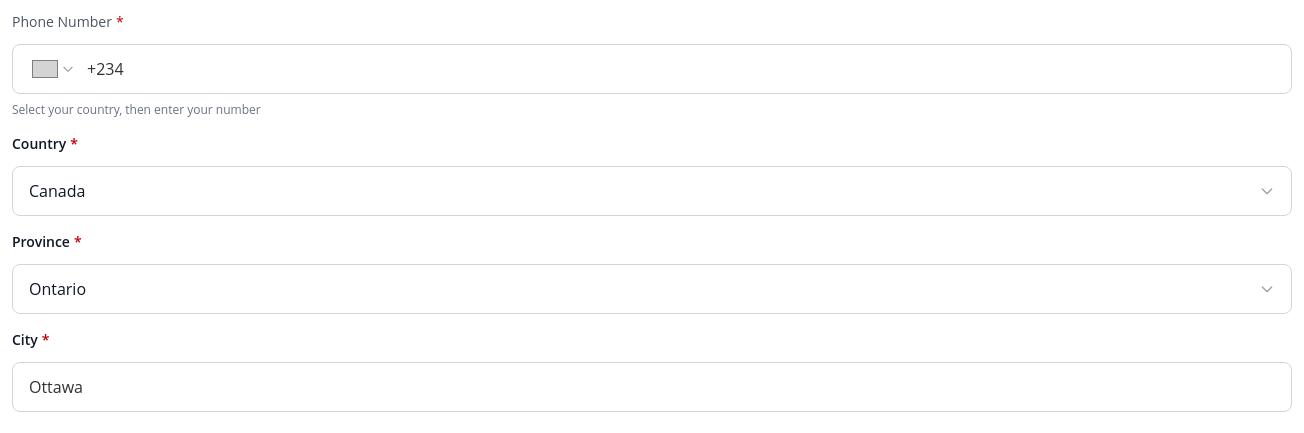
phone errors wait for the reader to finish › speaks up once focus leaves
Click the field labelled "Phone Number*". click: (681,69)
box: [87,57,1275,81]
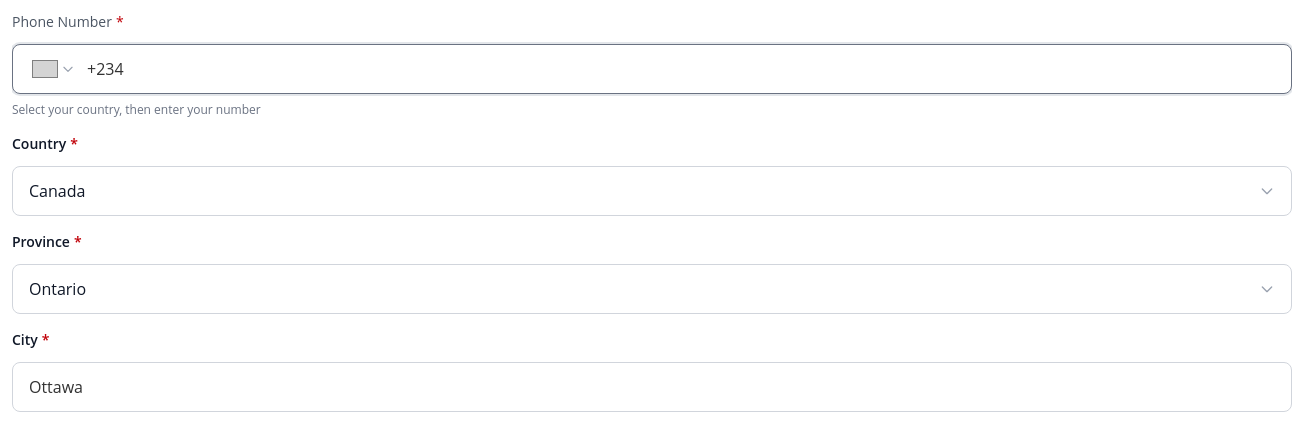
Press Tab
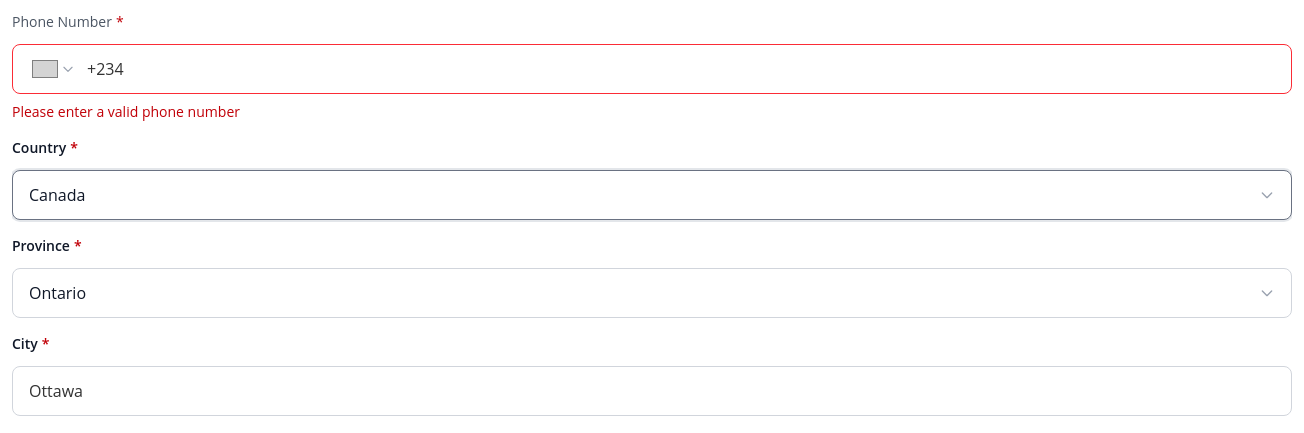
expect the text "Please enter a valid phone number" is shown: met, box [12,102,240,121]
